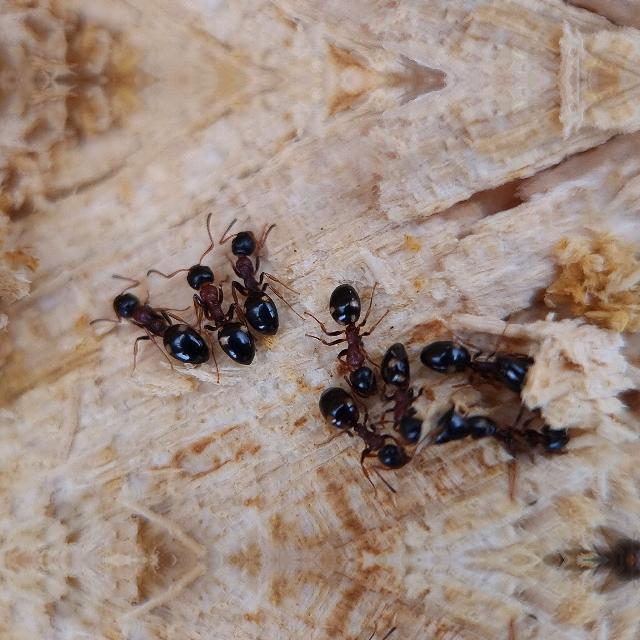Dolichoderus: (86, 275, 214, 373), (417, 396, 587, 469), (312, 277, 406, 401), (304, 391, 416, 484), (214, 220, 296, 336), (414, 326, 546, 392), (168, 250, 240, 338), (384, 348, 436, 446)
